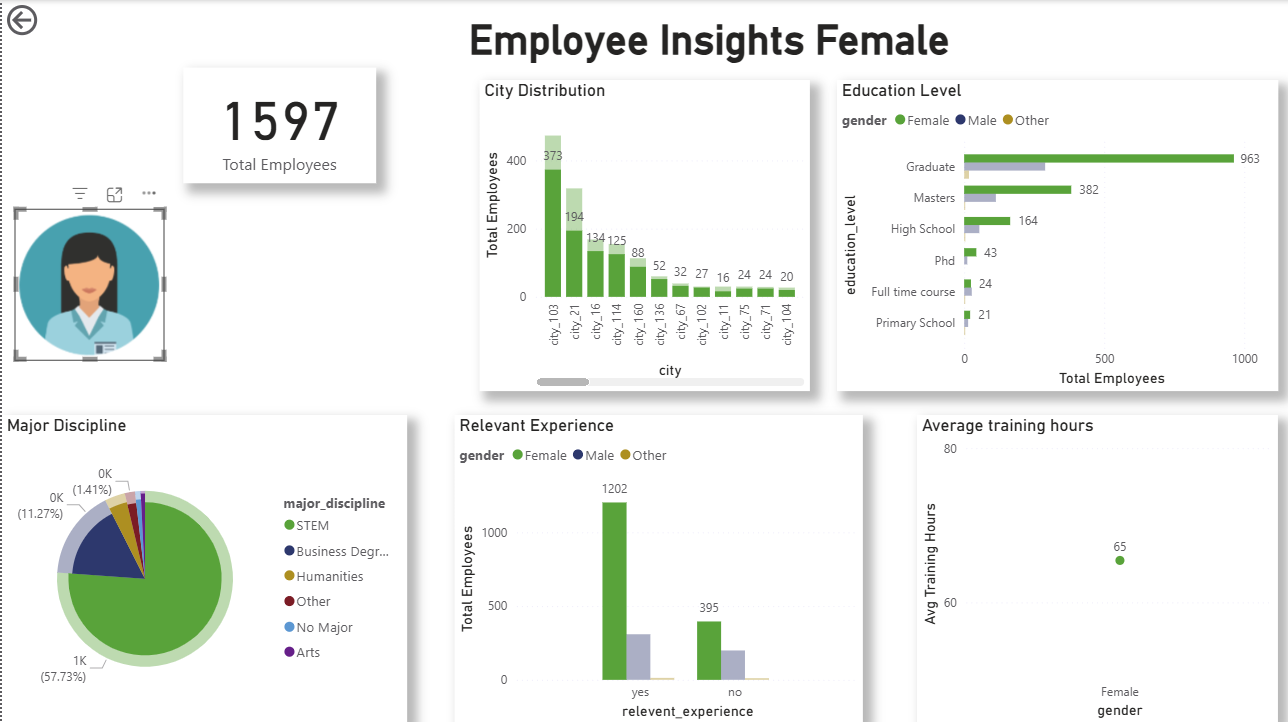

What the dashboard file says about the page in this screenshot:
{"tool":"powerbi","page":{"name":"Page 1","canvas":[1280,720],"ordinal":0},"visuals":[{"type":"columnChart","title":"City Distribution","fields":{"Y":["aug_test.Total Employees"],"Category":["aug_test.city"]},"box":[475.2,79.6,328.4,309.7],"z":0},{"type":"clusteredBarChart","title":"Education Level","fields":{"Category":["aug_test.education_level"],"Y":["aug_test.Total Employees"],"Series":["aug_test.gender"]},"box":[831,79.6,439.1,309.7],"z":1000},{"type":"actionButton","box":[0,0,100,40],"z":2000},{"type":"pieChart","title":"Major Discipline","fields":{"Category":["aug_test.major_discipline"],"Y":["aug_test.Total Employees"]},"box":[0,413,403,307.3],"z":3000},{"type":"clusteredColumnChart","title":"Relevant Experience","fields":{"Y":["aug_test.Total Employees"],"Category":["aug_test.relevent_experience"],"Series":["aug_test.gender"]},"box":[450.3,413,406.8,307.3],"z":4000},{"type":"lineChart","title":"Average training hours","fields":{"Y":["aug_test.Avg Training Hours"],"Category":["aug_test.gender"]},"box":[910.6,413,359.5,307.3],"z":5000},{"type":"card","fields":{"Values":["aug_test.Total Employees"]},"box":[179.8,67.2,192.1,115.3],"z":6000},{"type":"imageDB603108E3FF4EBFB8047F5653368E8C","fields":{"imageUrl":["Table (2).ImageUrl"],"imageTitle":["Table (2).gender"]},"box":[201.7,220.9,146.8,138.6],"z":7000},{"type":"card","fields":{"Values":["aug_test.Dashboard Title"]},"box":[435.4,0,537.4,70.9],"z":8000},{"type":"imageDB603108E3FF4EBFB8047F5653368E8C","fields":{"imageUrl":["Table (2).ImageUrl"],"imageTitle":["Table (2).gender"]},"box":[12.3,52.1,149.6,145.5],"z":8001},{"type":"imageDB603108E3FF4EBFB8047F5653368E8C","fields":{"imageUrl":["Table (2).ImageUrl"],"imageTitle":["Table (2).gender"]},"box":[12.3,207.2,149.6,152.3],"z":8002}]}

Visuals, with their boxes in screenshot pixels (x1, y1, x2, y2), scaled from the page's 1280x720 canvas onto the 1288x722 screenshot:
"City Distribution" columnChart: (left=478, top=80, right=809, bottom=390)
"Education Level" clusteredBarChart: (left=836, top=80, right=1278, bottom=390)
actionButton: (left=0, top=0, right=101, bottom=40)
"Major Discipline" pieChart: (left=0, top=414, right=406, bottom=721)
"Relevant Experience" clusteredColumnChart: (left=453, top=414, right=862, bottom=721)
"Average training hours" lineChart: (left=916, top=414, right=1278, bottom=721)
card - aug_test.Total Employees: (left=181, top=67, right=374, bottom=183)
imageDB603108E3FF4EBFB8047F5653368E8C - Table (2).ImageUrl x Table (2).gender: (left=203, top=222, right=351, bottom=360)
card - aug_test.Dashboard Title: (left=438, top=0, right=979, bottom=71)
imageDB603108E3FF4EBFB8047F5653368E8C - Table (2).ImageUrl x Table (2).gender: (left=12, top=52, right=163, bottom=198)
imageDB603108E3FF4EBFB8047F5653368E8C - Table (2).ImageUrl x Table (2).gender: (left=12, top=208, right=163, bottom=360)
